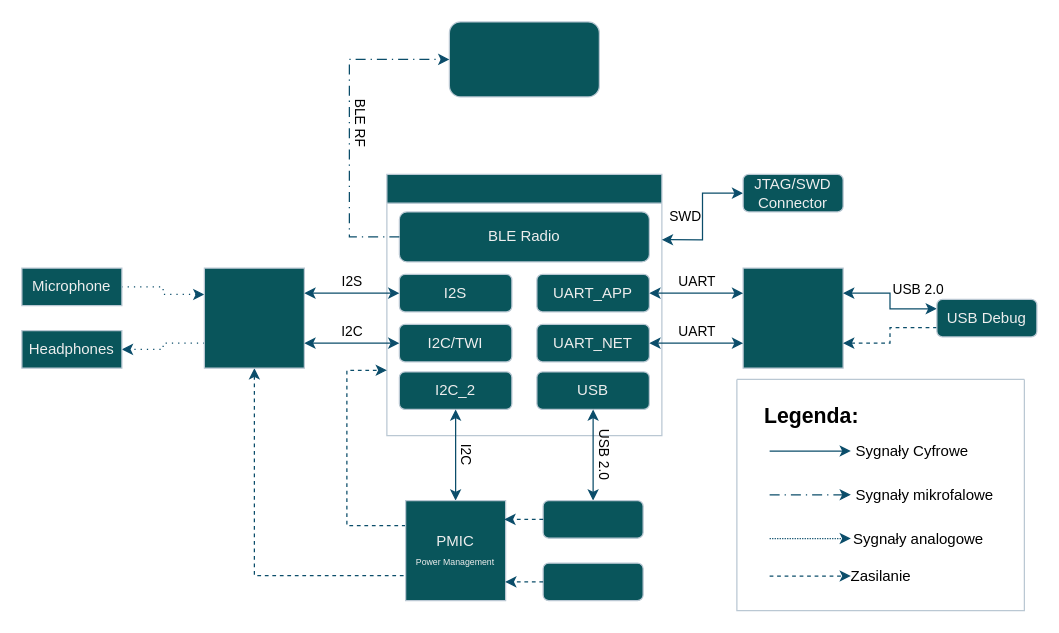
Image size: 1059x633. Some labels were removed from this diagram. Each missing label, with the box of its shape:
Antena: (448, 21, 599, 97)
Audio Codec (ADC/DAC): (203, 267, 304, 368)
Battery: (542, 562, 643, 601)
MCU: (386, 173, 662, 436)
USB Native MCU: (542, 499, 643, 538)
USB-UART Interface: (742, 267, 843, 368)
